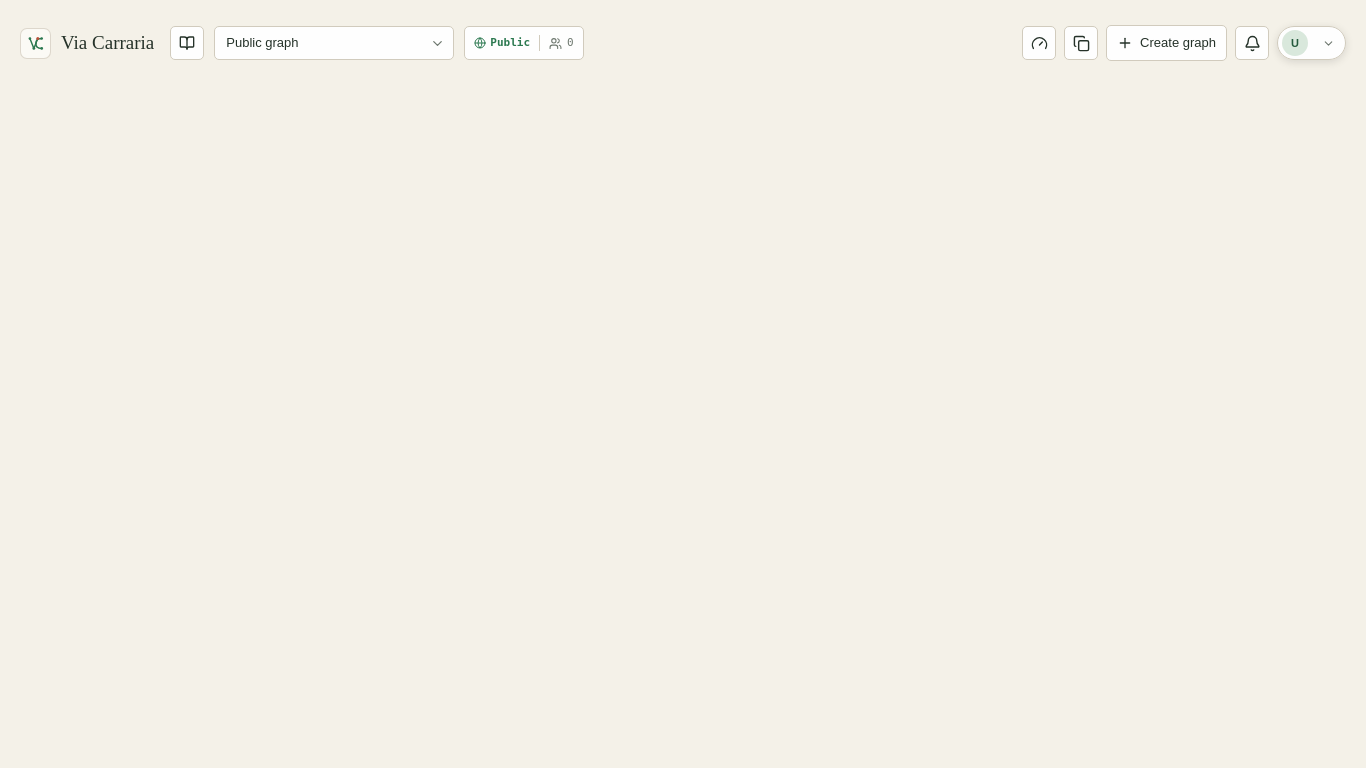
Scenario: Header graph access controls › opens the current quota context menu with storage, queue occupation, and capabilities
The image size is (1366, 768).
Click the button named "Limits" at [1039, 43], box [1022, 26, 1056, 60]
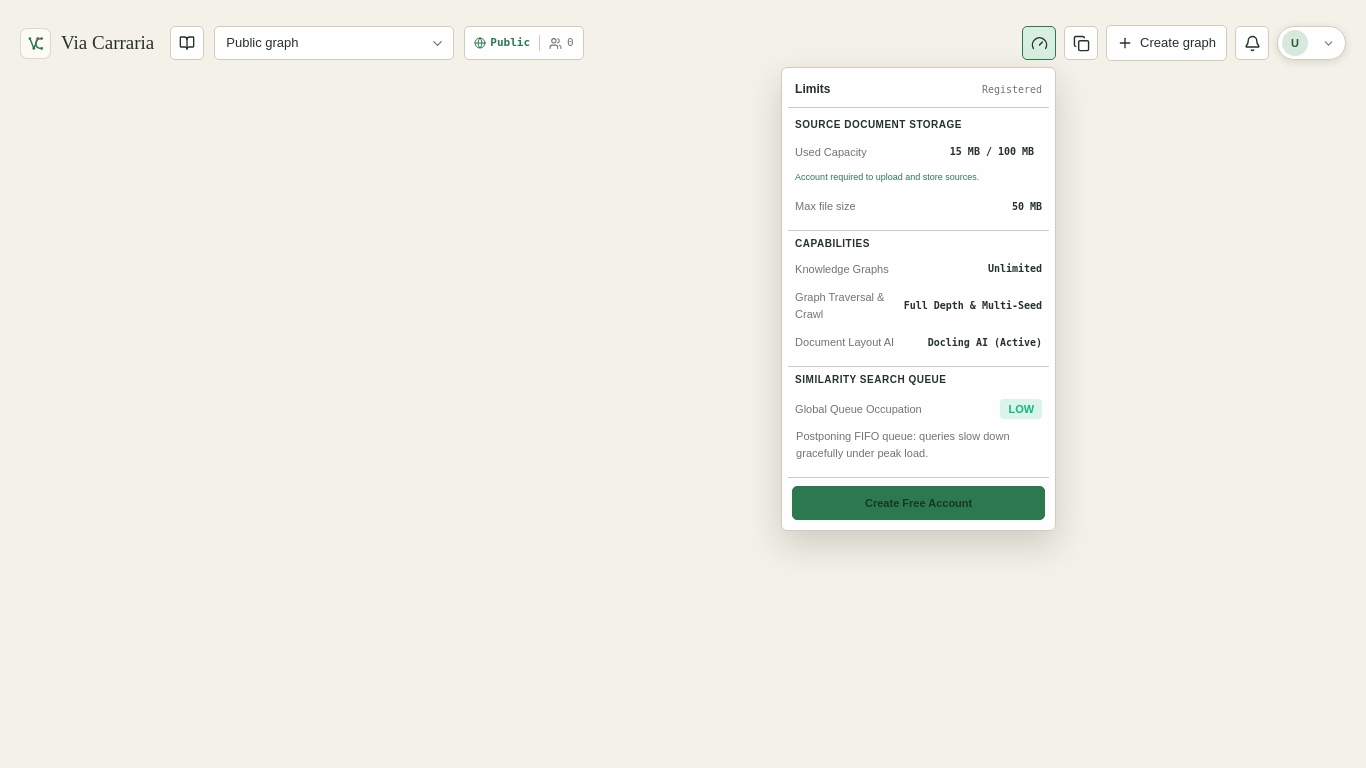
Expected: the menu "Limits" is shown, [781, 67, 1056, 531]
Expected: the text "Source Document Storage" is shown, [795, 119, 962, 130]
Expected: the text "Similarity Search Queue" is shown, [788, 366, 1049, 390]
